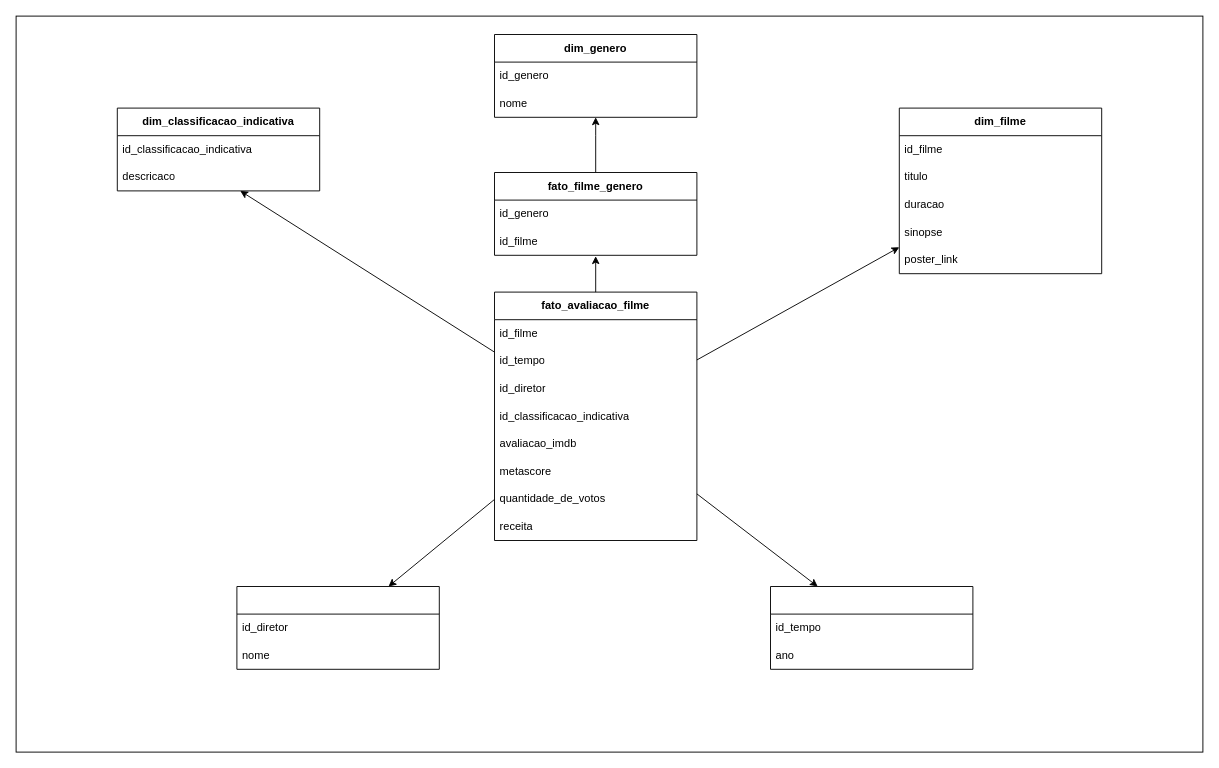
The diagram is 1219 pixels wide and 768 high, and some of its shapes have lost their labels. The box of each missing label's shape, as (x1, y1, x2, y2) in pixels:
dim_diretor: (236, 586, 439, 669)
dim_tempo: (770, 586, 973, 669)
